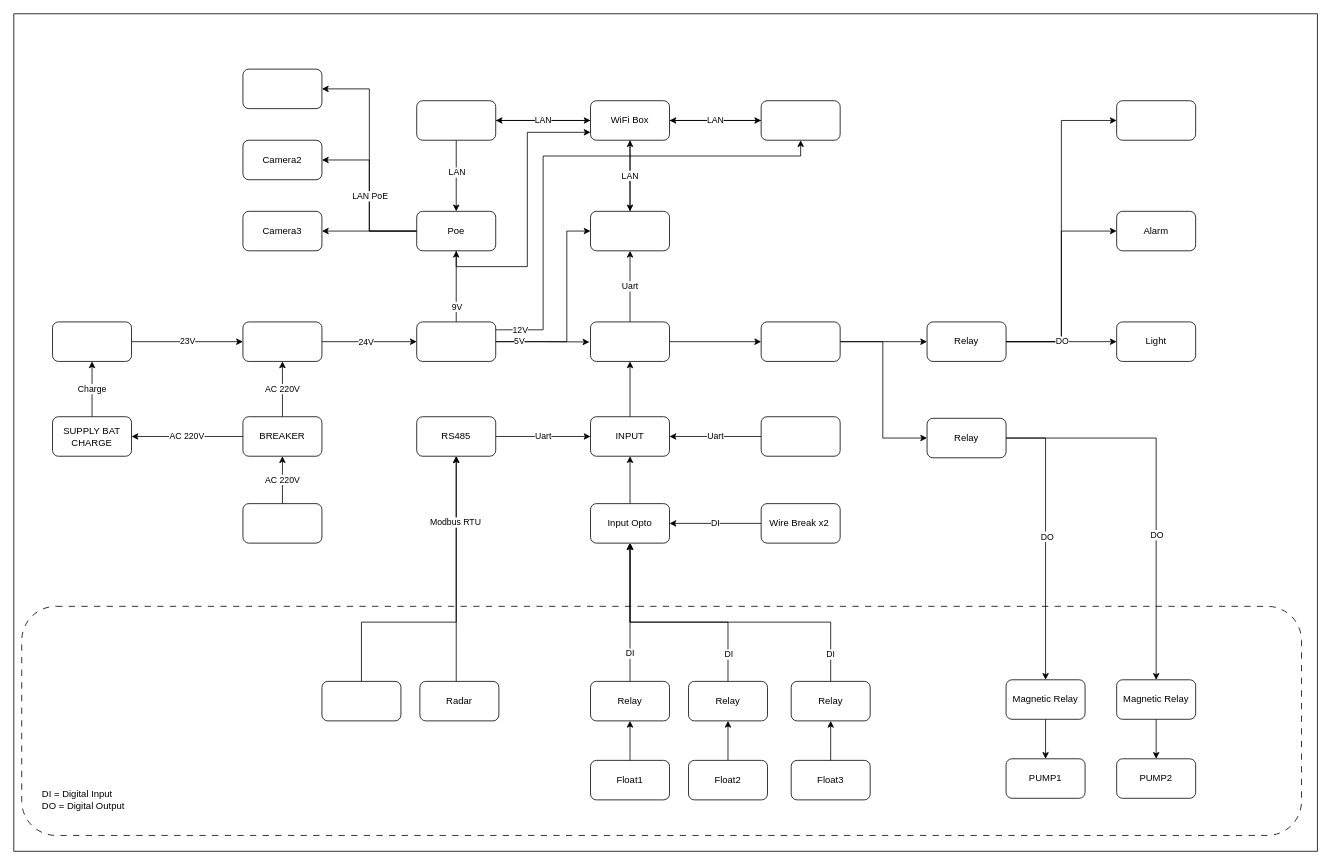
Image size: 1331x865. Some labels were removed from this diagram. Each missing label, with the centre of its shape:
Ac Sensor: the point at 361,701
BATTERY: the point at 92,341
Camera1: the point at 282,88
ESP32 Touch Screen: the point at 800,436
INPUT AC 1 PHASE: the point at 282,523
LED Tower: the point at 1156,120
Microcontroller Unit: the point at 630,341
NVR: the point at 800,120
OUTPUT: the point at 800,341
Single Board Computer: the point at 630,231
Stepdown: the point at 456,341
SUPPLY: the point at 282,341
Wifi Switch: the point at 456,120
